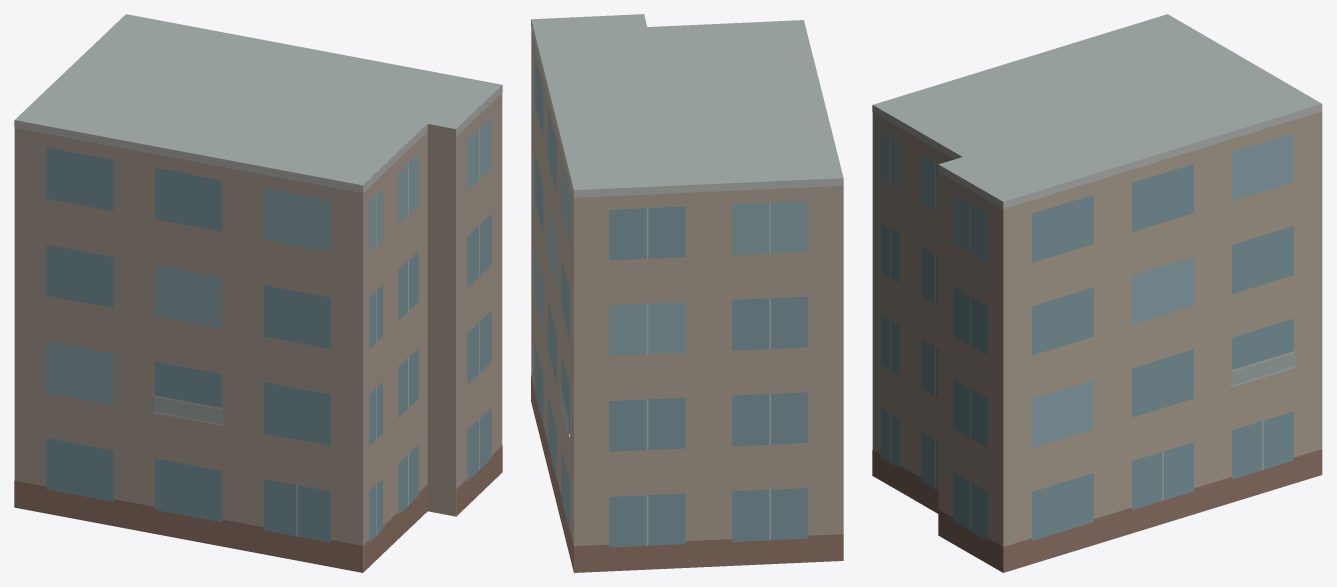
Rendered from residential-4af92b6d-35d7-44f3-a216-6599393d3bde.glb.
3 renders of one model, left to right at view 1: azimuth 30°, elevation 25°; view 2: azimuth 150°, elevation 25°; view 3: azimuth 270°, elevation 25°, orthographic. The views are drawn at different scales.
Visible parts, largest first — view 1: residential-4af92b6d-35d7-44f3-a216-6599393d3bde.tmp; view 2: residential-4af92b6d-35d7-44f3-a216-6599393d3bde.tmp; view 3: residential-4af92b6d-35d7-44f3-a216-6599393d3bde.tmp.
Part boxes in pixels (bbox=[...]): residential-4af92b6d-35d7-44f3-a216-6599393d3bde.tmp: bbox=[14, 14, 502, 572]; residential-4af92b6d-35d7-44f3-a216-6599393d3bde.tmp: bbox=[531, 14, 843, 572]; residential-4af92b6d-35d7-44f3-a216-6599393d3bde.tmp: bbox=[872, 14, 1322, 572].
Bounding box in the file's own units: 13.26 × 12.2 × 13.41.
